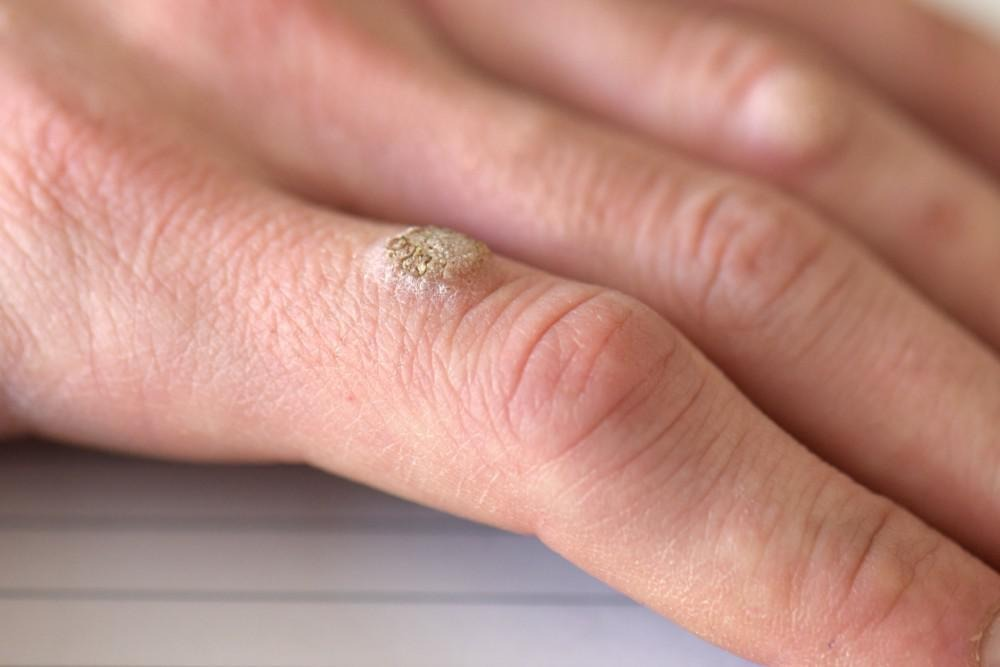Warts: (357, 208, 512, 312)
